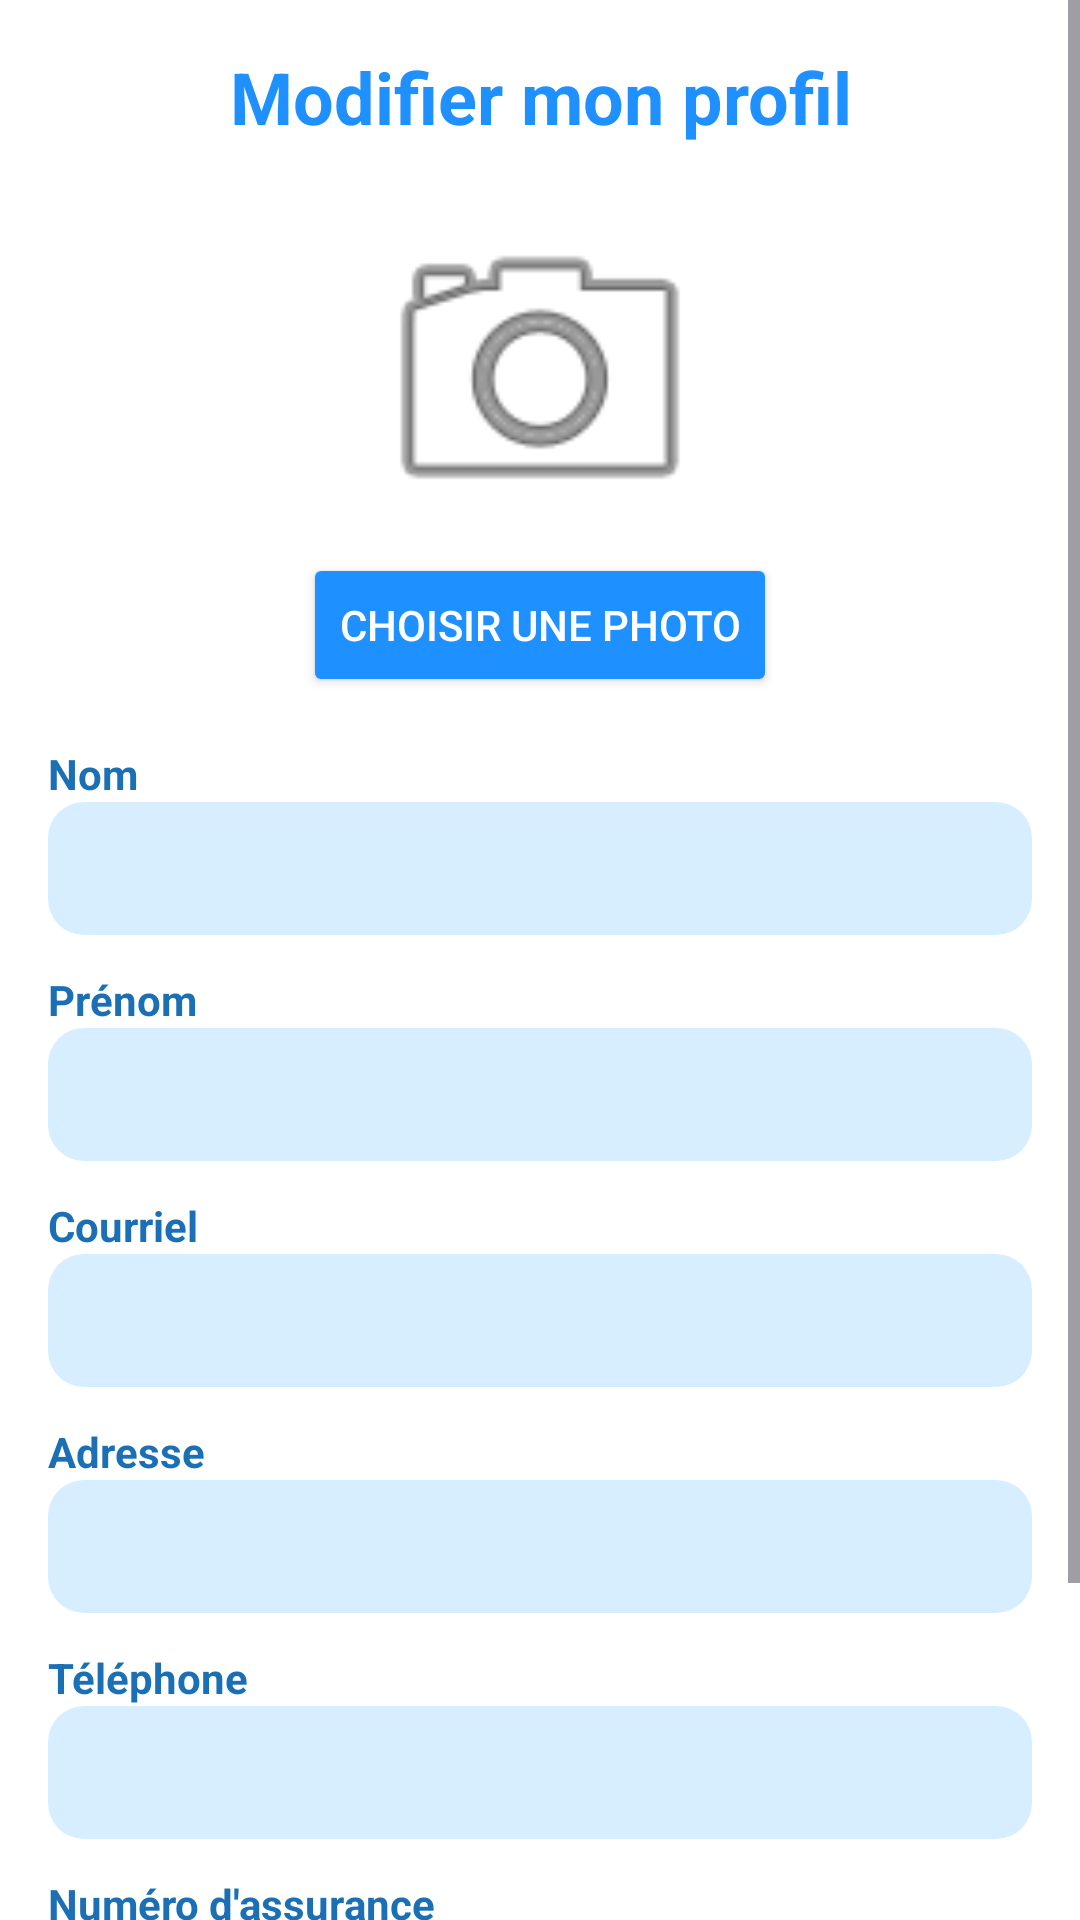

Icons on this 1080*1920 Android screen, each with its box as (x1,y1,x2,y2):
camera: (401,256,679,478)
